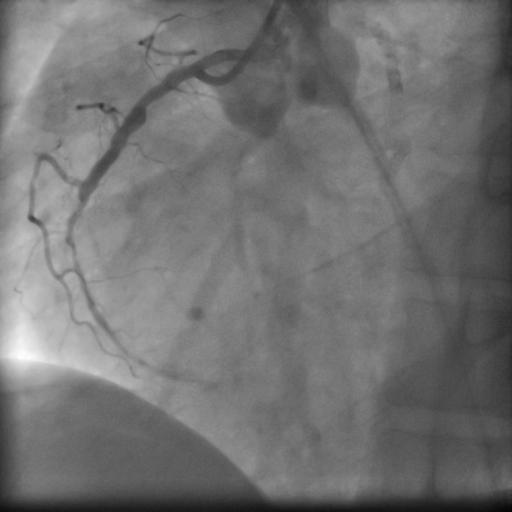Stenosis: (139, 83, 159, 116)
